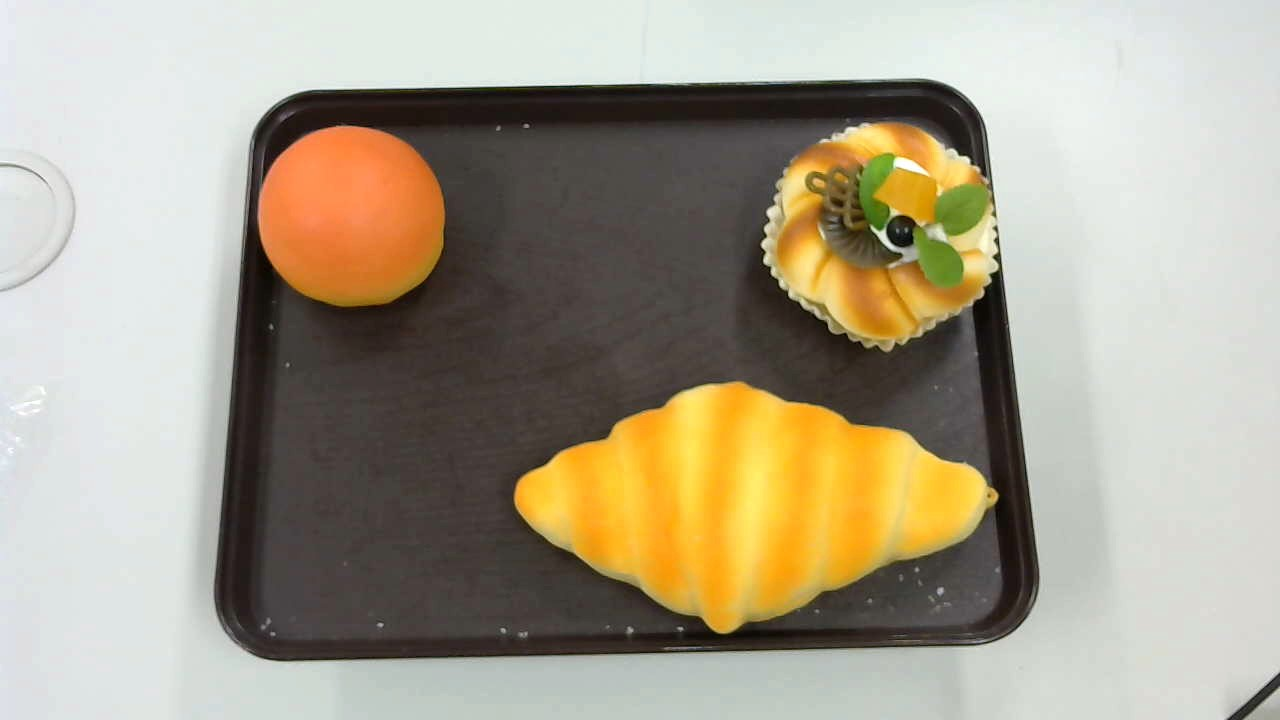bun: (257, 125, 445, 307)
croissant: (512, 381, 999, 635)
fruit tart: (762, 117, 999, 351)
